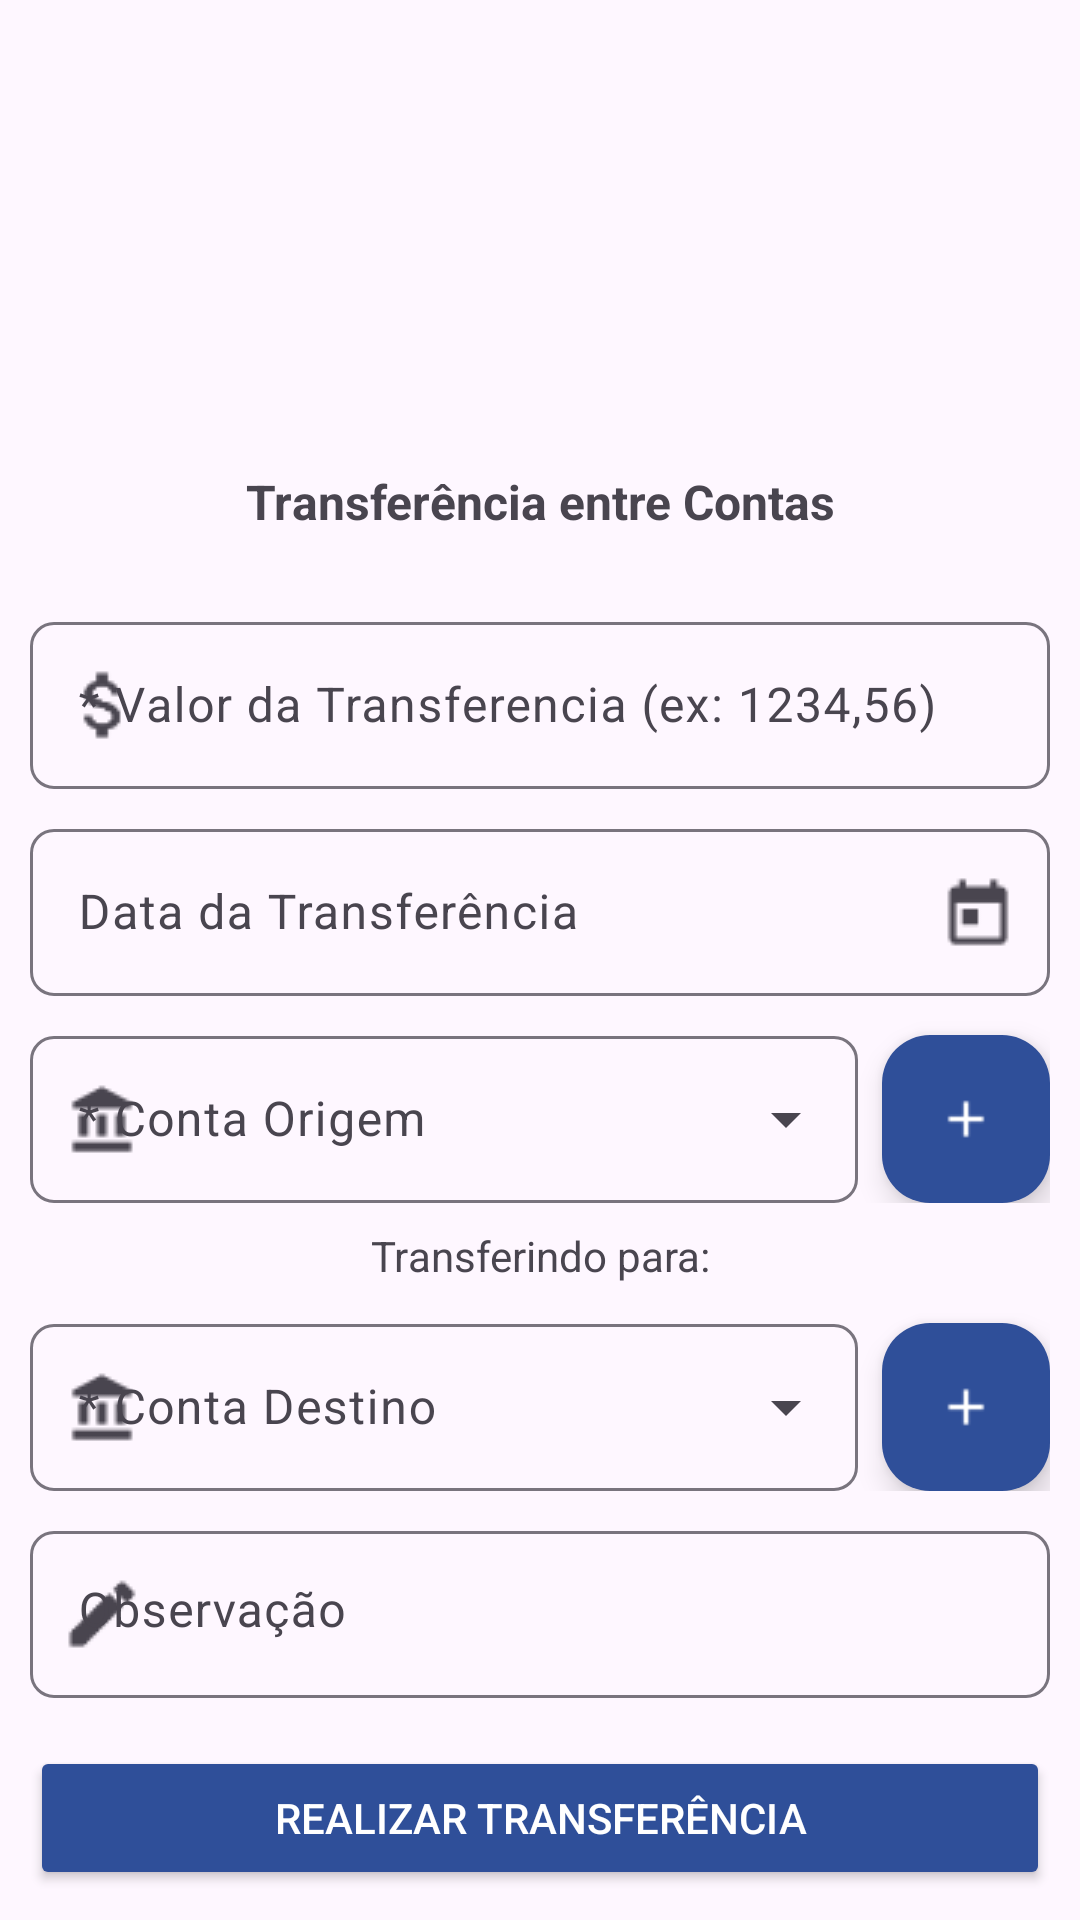

Icon click points for this 1080w x 1920h phone screenshot, format (x,y):
Adicionar Conta: (966,1119), (966,1407)
